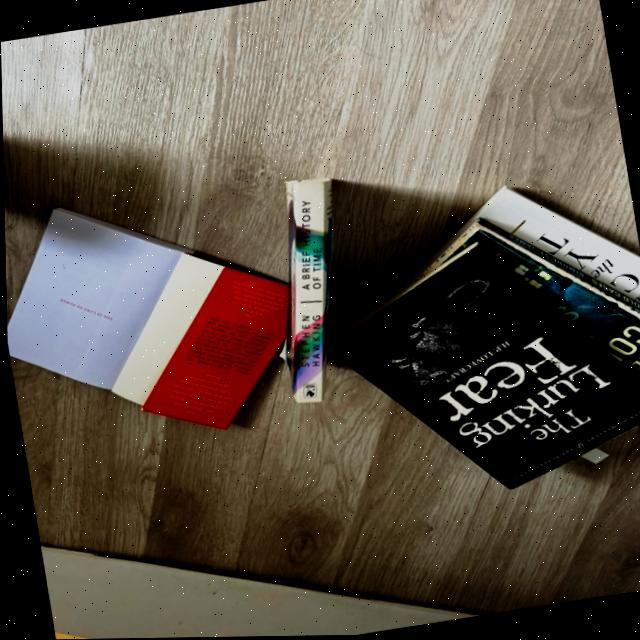Book: (328, 242, 640, 492), (6, 208, 289, 430), (389, 218, 640, 381), (390, 186, 640, 307), (282, 181, 332, 404)
